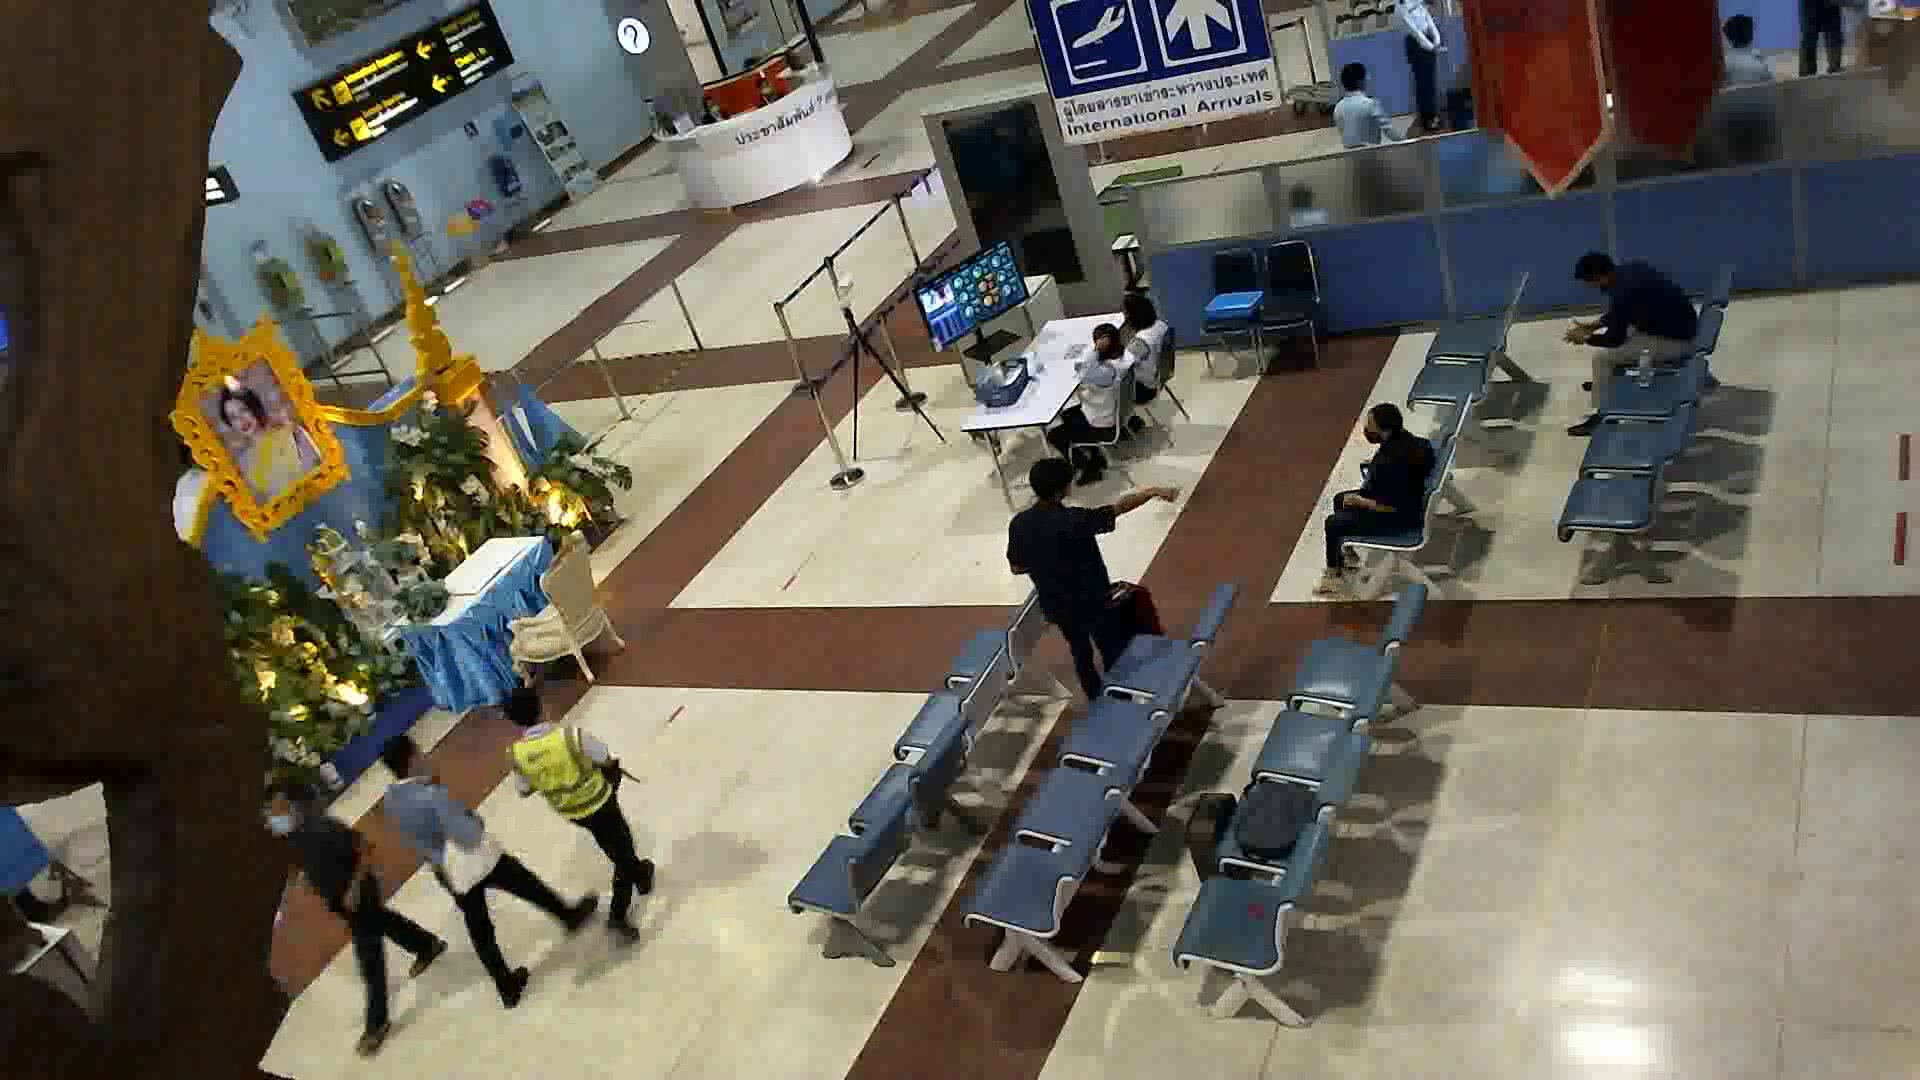backpack: (1239, 765, 1306, 863)
luggage: (1181, 780, 1245, 899), (1101, 570, 1170, 655)
people: (379, 724, 578, 1024), (504, 670, 670, 947), (274, 784, 445, 1043), (1012, 443, 1137, 728), (1572, 245, 1703, 443), (1312, 391, 1431, 599), (1056, 330, 1135, 470), (1108, 288, 1191, 403)
